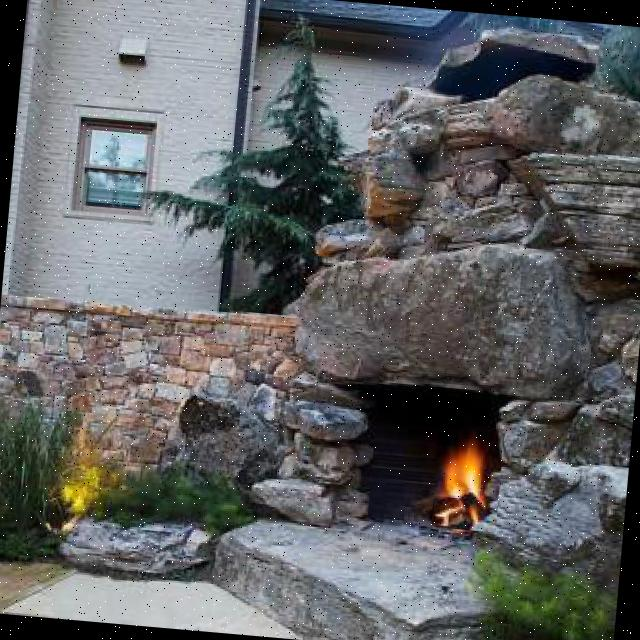fire: (430, 424, 504, 532)
